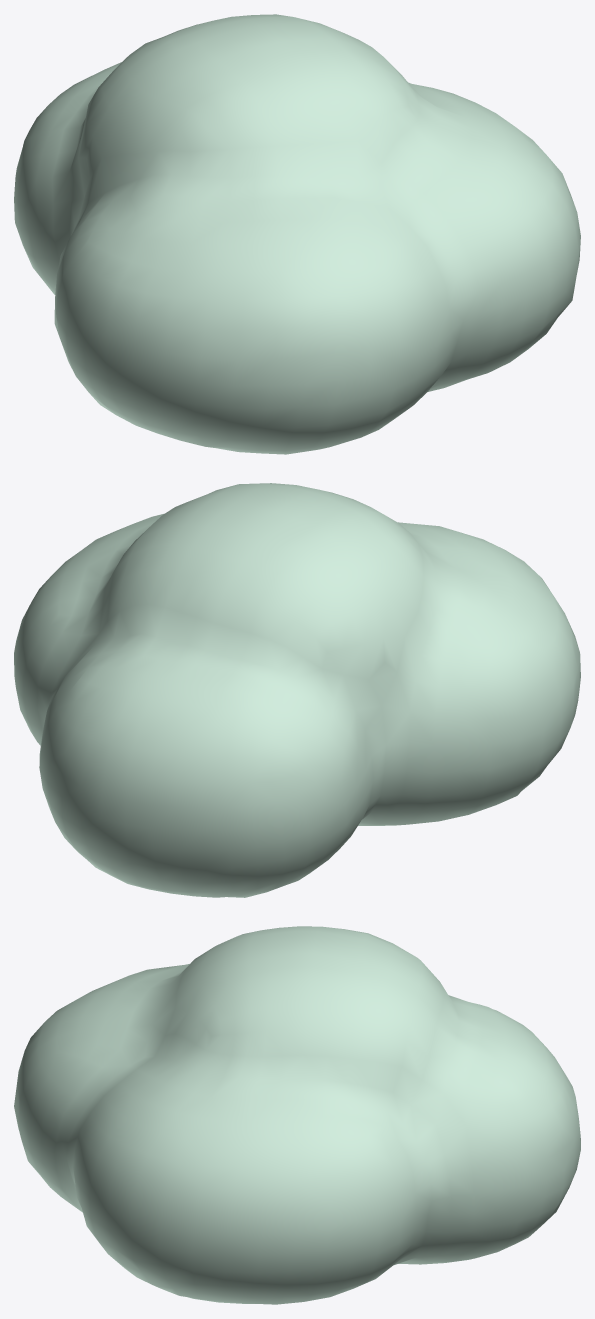
The model's file is Cloud_1.fbx.
3 views of the same model, one above another, from view 1: azimuth 30°, elevation 25°; view 2: azimuth 150°, elevation 25°; view 3: azimuth 270°, elevation 25° (orthographic). The views are drawn at different scales.
Visible parts, largest first — view 1: Cloud_1; view 2: Cloud_1; view 3: Cloud_1.
Boxes of the visible parts, <box> form: Cloud_1: <box>14,14,580,454</box>; Cloud_1: <box>14,483,580,897</box>; Cloud_1: <box>14,926,580,1304</box>.
Size of the model in its own units: 2.83 by 1.8 by 3.11.
